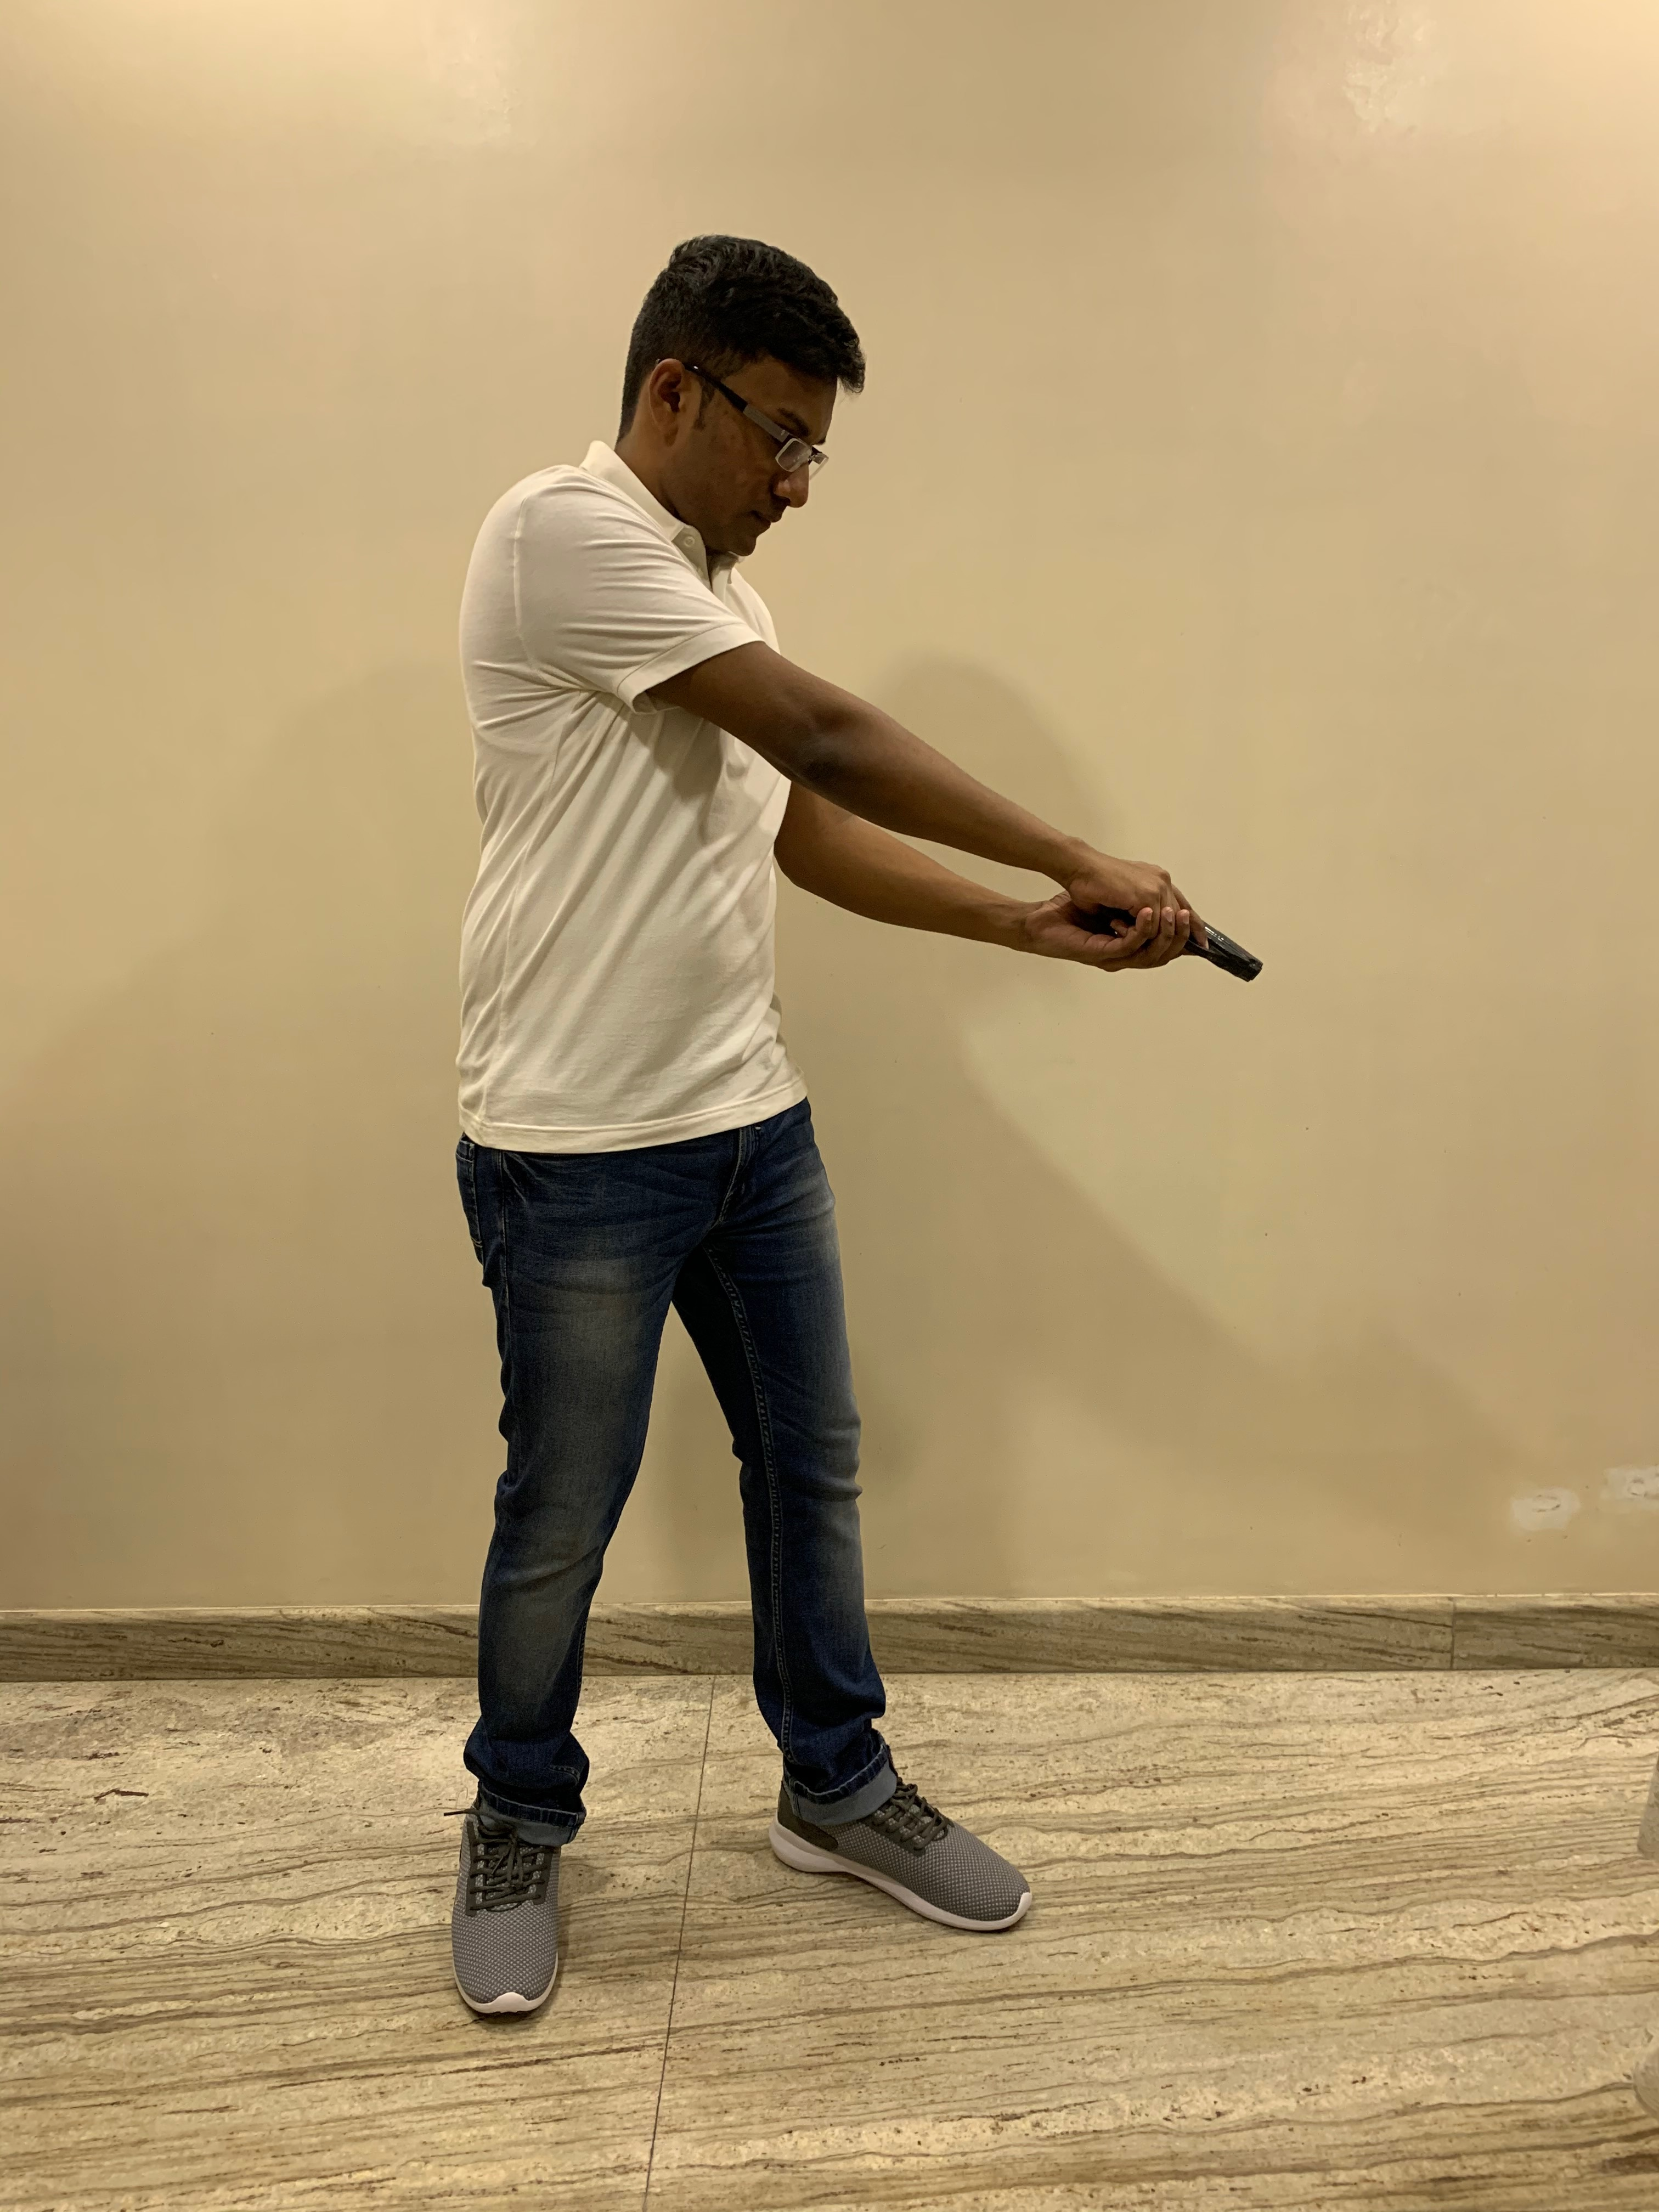gun: (1185, 913, 1269, 995)
